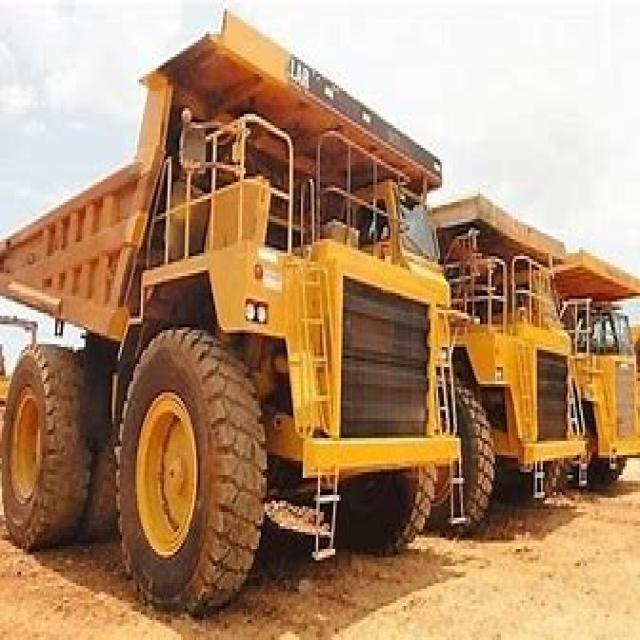dump_truck: (0, 14, 450, 614), (446, 154, 586, 549), (581, 233, 638, 492)
